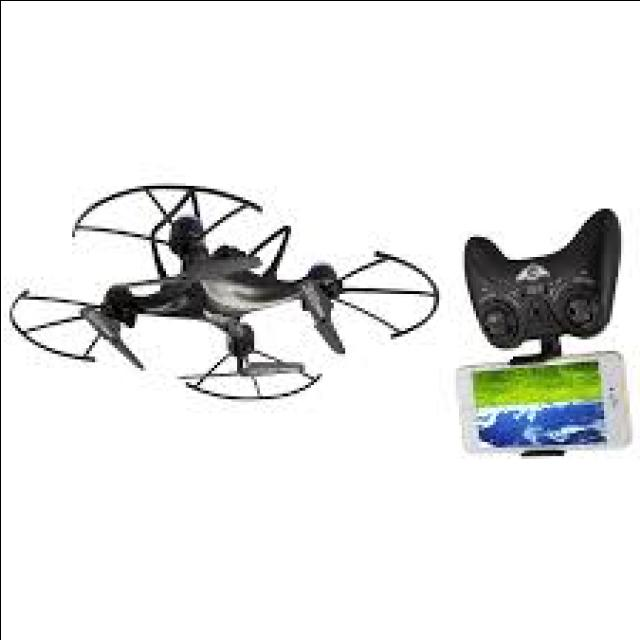drone: (0, 156, 444, 418)
